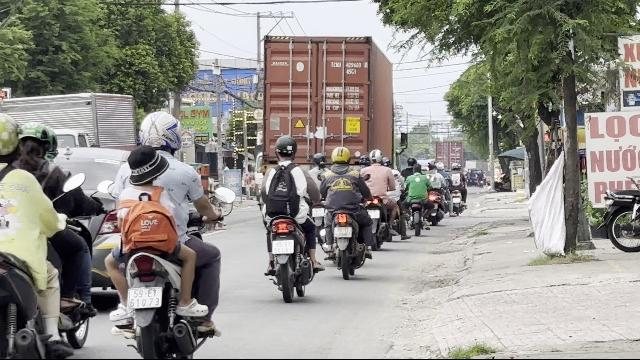helmet: (136, 111, 182, 157), (14, 122, 56, 172), (273, 134, 297, 162), (330, 146, 350, 166)
licenseplate: (128, 287, 162, 309), (272, 240, 294, 254), (334, 227, 352, 237)
motorcyclist: (101, 108, 226, 356), (1, 114, 98, 356), (256, 132, 322, 300), (318, 145, 374, 277)
nohelmet: (125, 144, 169, 185)
